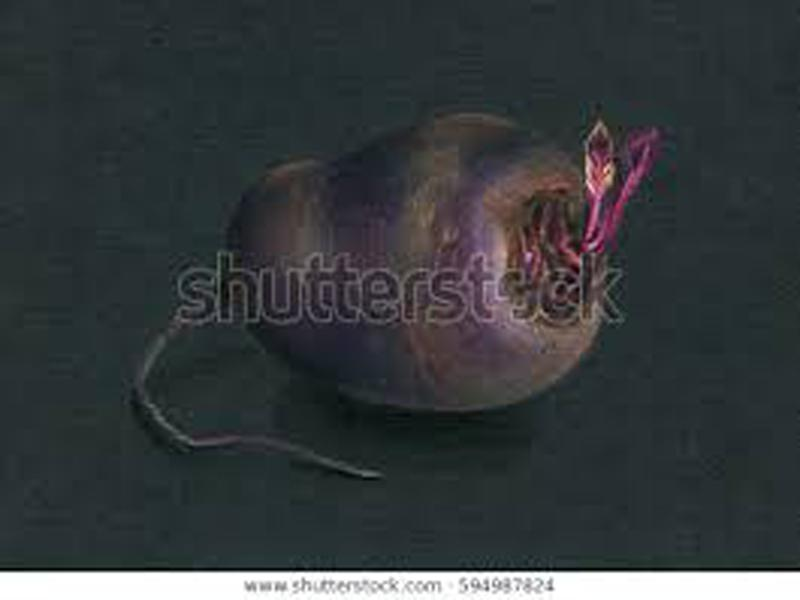Beet: (136, 111, 670, 477)
